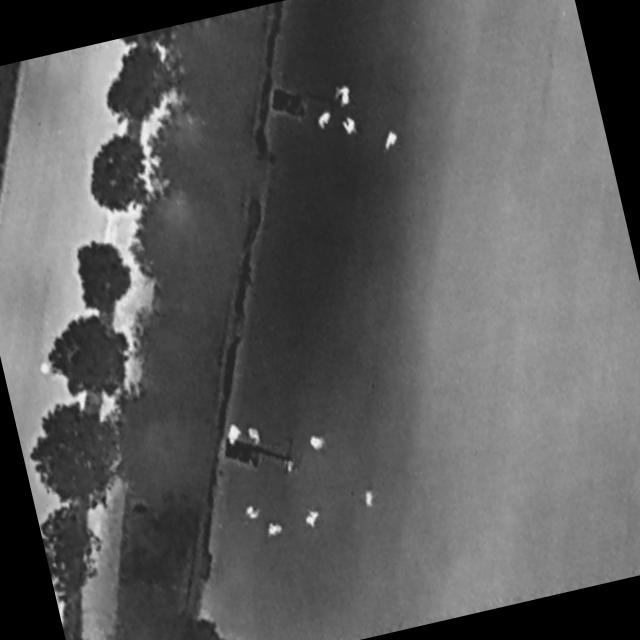person: (298, 501, 326, 534), (222, 418, 248, 452), (311, 106, 338, 136), (379, 126, 405, 157), (332, 82, 356, 111), (341, 116, 360, 139), (362, 489, 378, 511), (267, 520, 285, 539), (244, 503, 263, 521), (309, 435, 327, 453), (249, 427, 263, 450)
